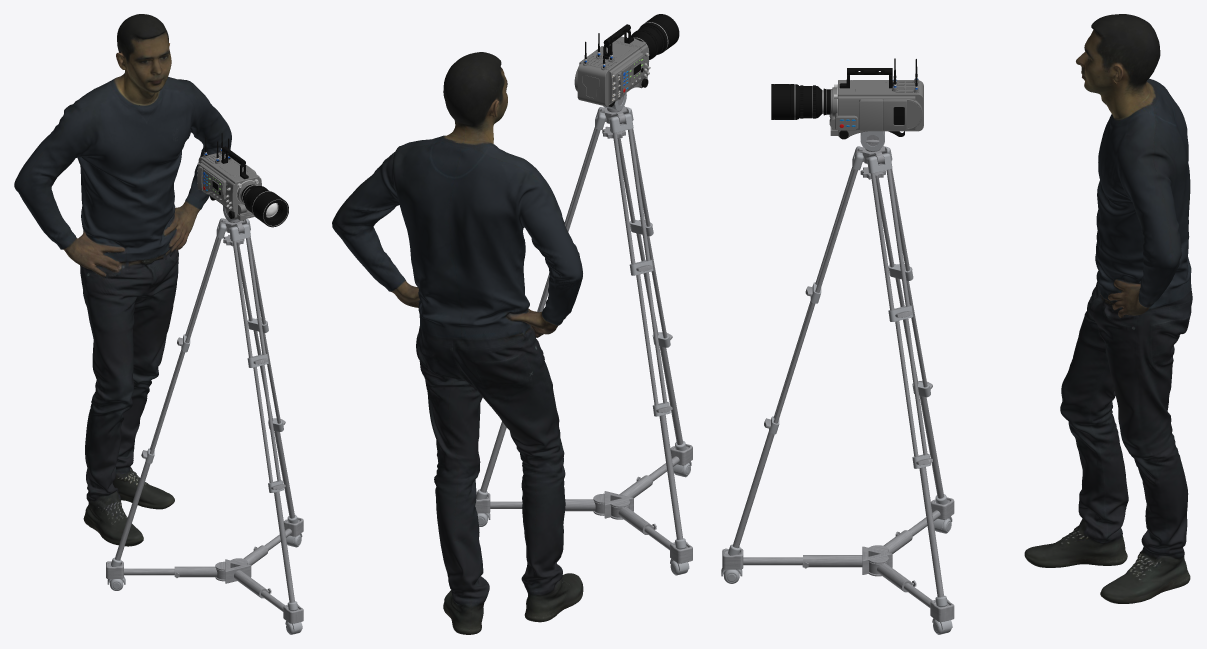
File: cameraman-opt.glb
The picture shows the model from 3 angles, left to right: view 1: azimuth 30°, elevation 25°; view 2: azimuth 150°, elevation 25°; view 3: azimuth 270°, elevation 25°; orthographic projection. The views are drawn at different scales.
Parts seen in each view (by area): view 1: Iya_01, Circle.023, camera; view 2: Iya_01, Circle.023, camera; view 3: Iya_01, Circle.023, camera.
Boxes of the visible parts, bbox=[...] form: Iya_01: bbox=[14, 14, 231, 546]; Circle.023: bbox=[106, 205, 303, 634]; camera: bbox=[197, 133, 288, 227]; Iya_01: bbox=[332, 52, 583, 634]; Circle.023: bbox=[475, 93, 692, 575]; camera: bbox=[574, 14, 679, 106]; Iya_01: bbox=[1024, 14, 1192, 603]; Circle.023: bbox=[721, 131, 954, 634]; camera: bbox=[771, 58, 923, 139].
Size of the model in its own units: 0.8592 by 1.81 by 1.35.
7 materials, 7 textured.
